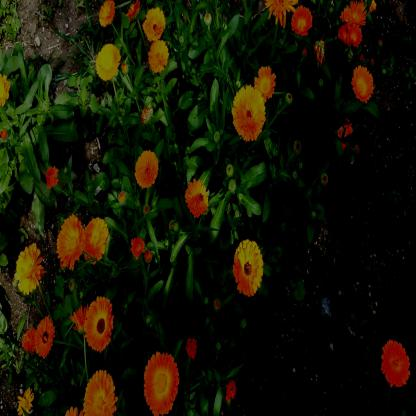marigold: (144, 351, 179, 414), (232, 85, 266, 139), (233, 238, 264, 293), (56, 214, 85, 268), (84, 370, 116, 416), (84, 298, 114, 346), (15, 243, 44, 292), (382, 338, 410, 388), (96, 42, 121, 79), (85, 218, 108, 258), (352, 64, 374, 103), (135, 150, 158, 187), (146, 40, 170, 74), (143, 7, 167, 39), (36, 317, 56, 355), (186, 180, 208, 214), (255, 64, 276, 99), (267, 0, 294, 23), (343, 3, 370, 26), (293, 6, 313, 35), (347, 24, 364, 51), (16, 390, 34, 414), (99, 1, 116, 25), (25, 329, 36, 354), (338, 23, 348, 47)
